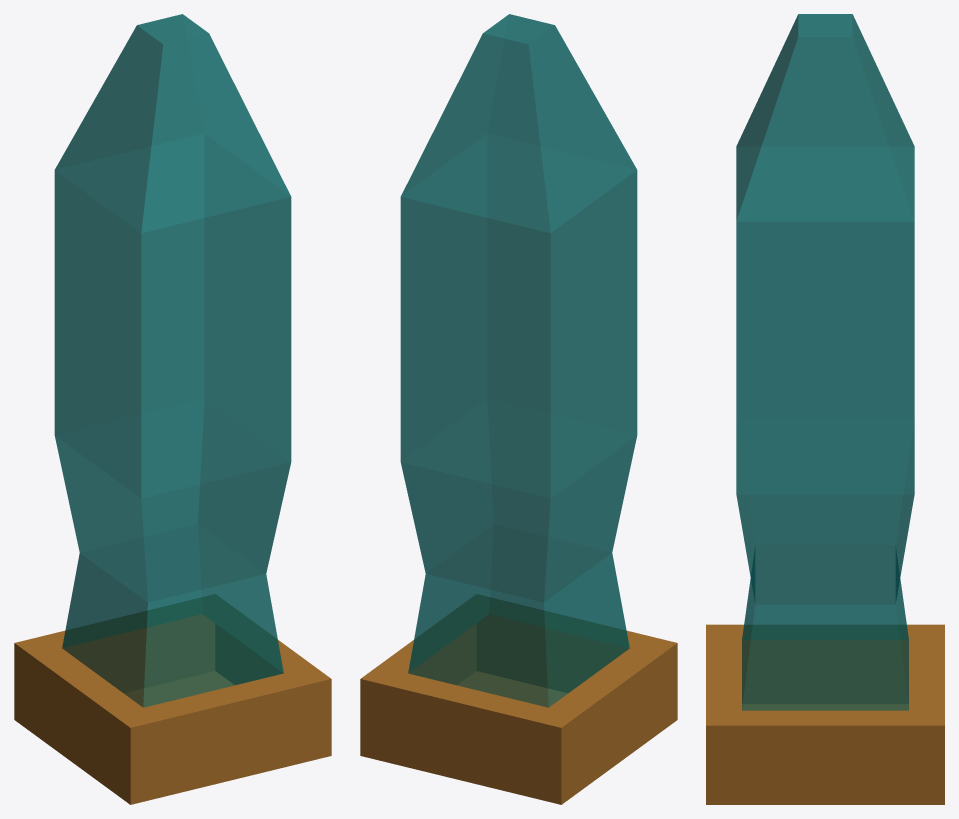
The model's file is Diamond_Pillar.fbx.
3 renders of one model, left to right at view 1: azimuth 30°, elevation 25°; view 2: azimuth 150°, elevation 25°; view 3: azimuth 270°, elevation 25°, orthographic. The views are drawn at different scales.
Visible parts, largest first — view 1: pCube1; view 2: pCube1; view 3: pCube1.
Part boxes in pixels (x1,y1,x2,y2): pCube1: (14,14,331,804); pCube1: (360,14,677,804); pCube1: (706,14,944,804).
Size of the model in its own units: 1 by 3.37 by 1.
